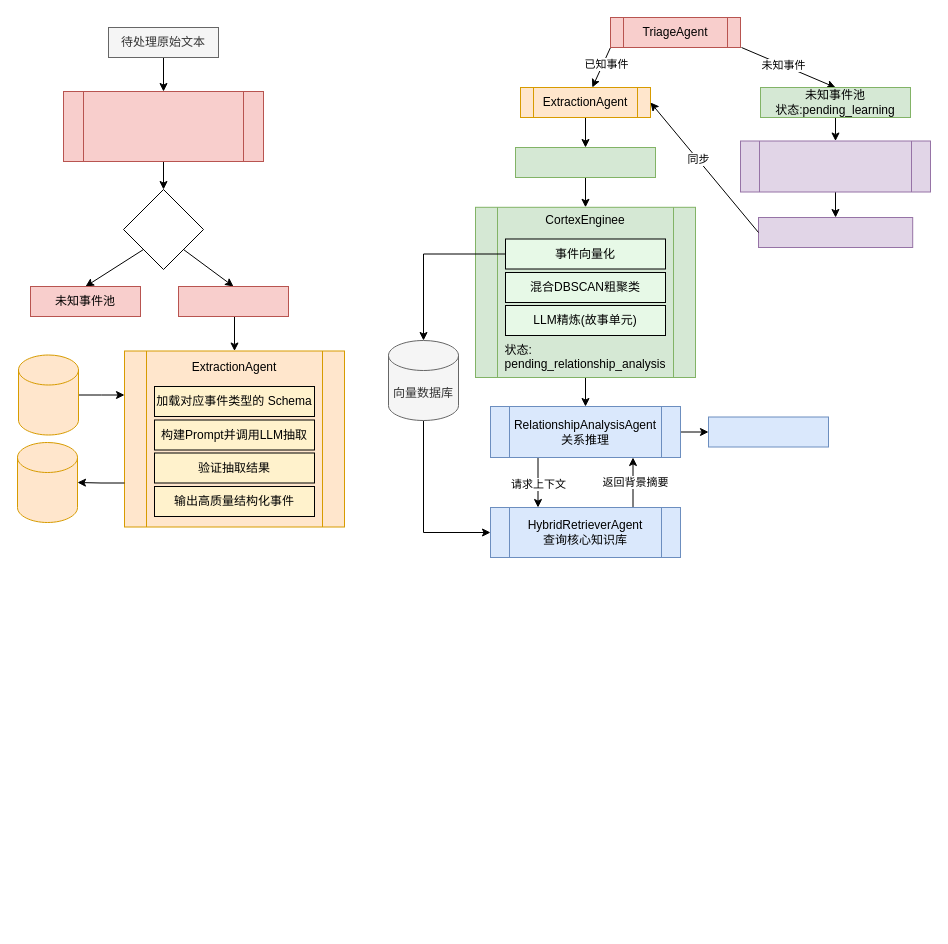
Image size: 948x944. Some labels were removed from this diagram. Here are the shapes that lost their labels. From the top down, the centre of each, then its label:
At pixel 163 126: "TriageAgent 快速文本分诊， 判断是否属于已知事件类型".
At pixel 585 162: "master_state.db 状态:pending_clustering".
At pixel 835 166: "LearningWorkflow 事件聚类+专家审核".
At pixel 163 229: "分诊结果 判定".
At pixel 835 232: "定义新的事件类型Schema".
At pixel 233 301: "原始文本+事件类型".
At pixel 48 394: "事件类型 Schema库".
At pixel 768 431: "存储关系结果 状态:processed".
At pixel 47 482: "结构化 事件 库".
